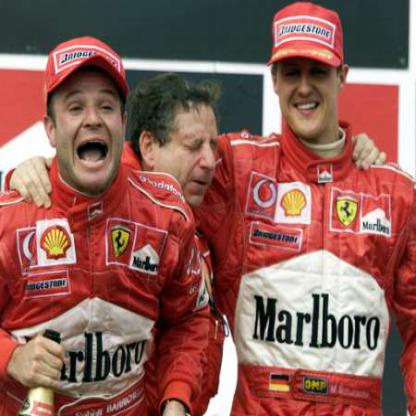face: (55, 37, 127, 191), (156, 87, 226, 212), (277, 6, 341, 139)
